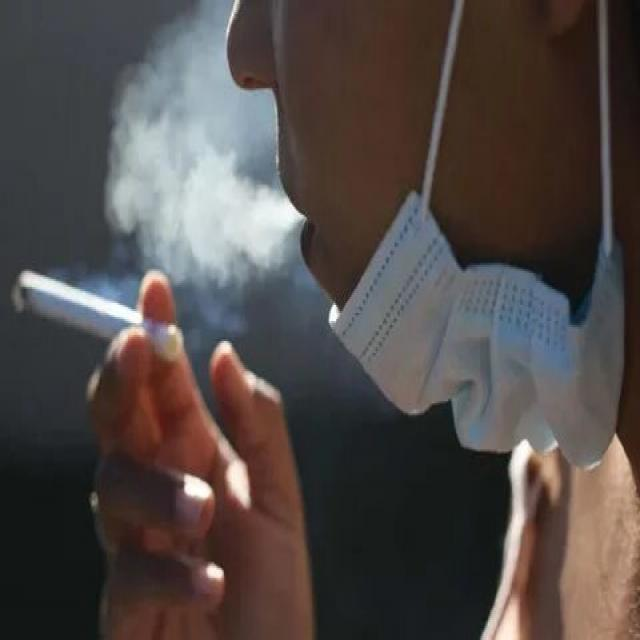smoke: (6, 265, 190, 369)
